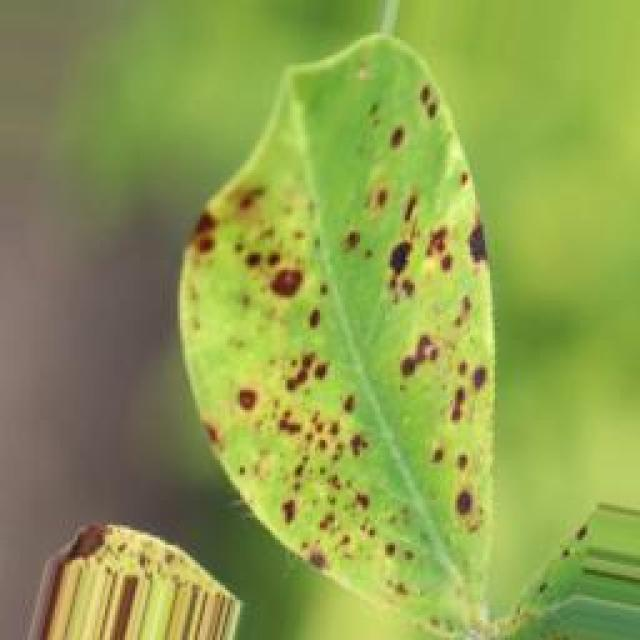Yellowish: (142, 12, 548, 595)
